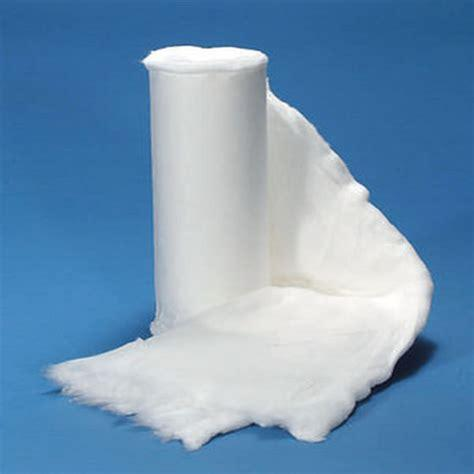cotton: (50, 65, 437, 449)
